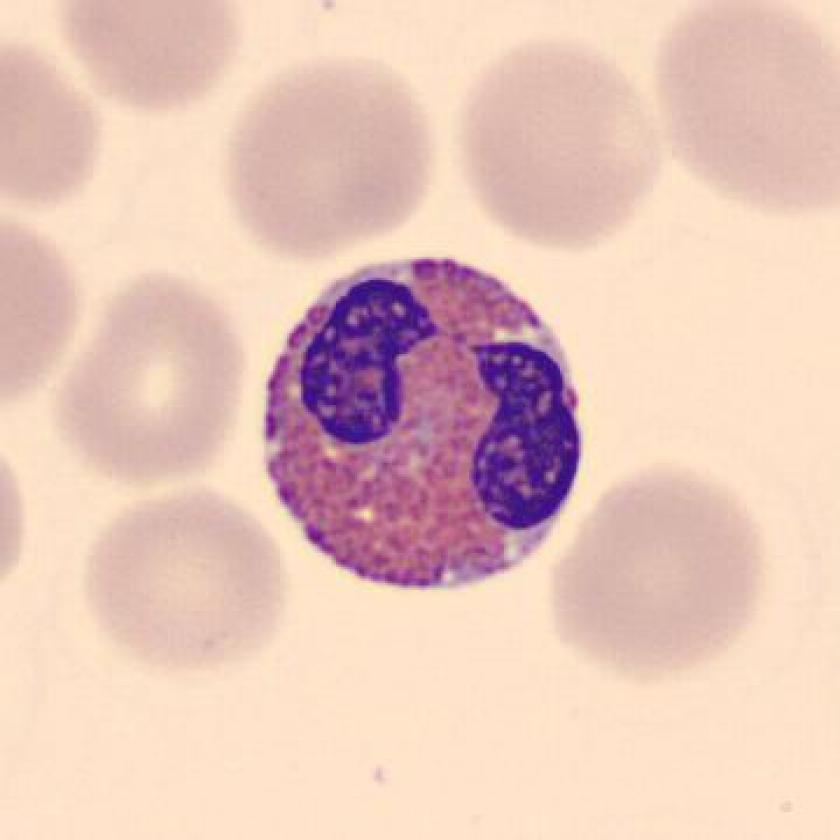eosinophil: (248, 240, 594, 608)
